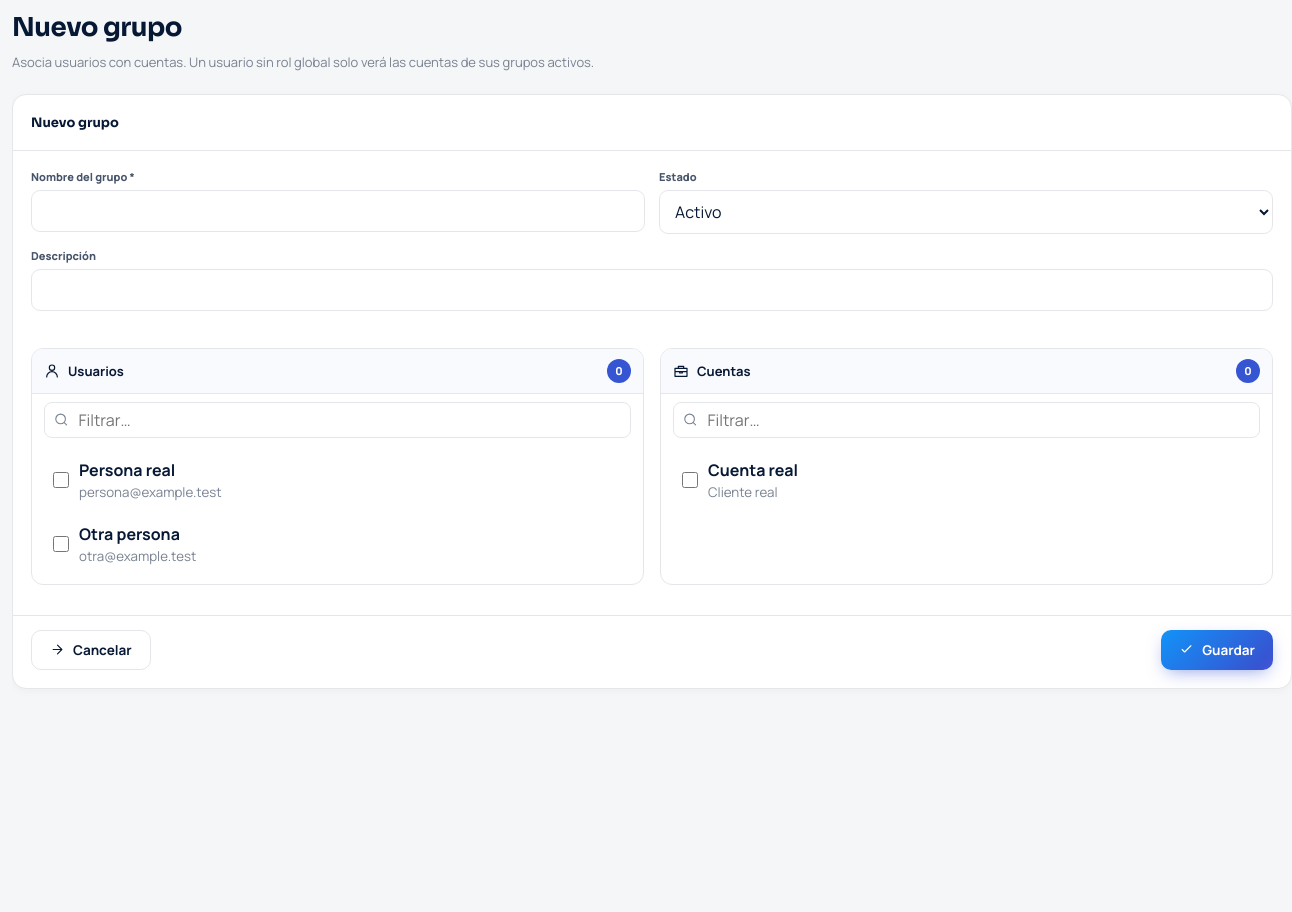
Test: Grupos según patrón de Clientes › el formulario muestra opciones reales de usuarios y cuentas
Expected: the text "Persona real" is shown, 79,459 -> 175,481
Expected: the text "Cuenta real" is shown, 708,459 -> 798,481
Click the checkbox labelled "Persona real persona@example.test": (61, 480) 53,472 -> 69,488
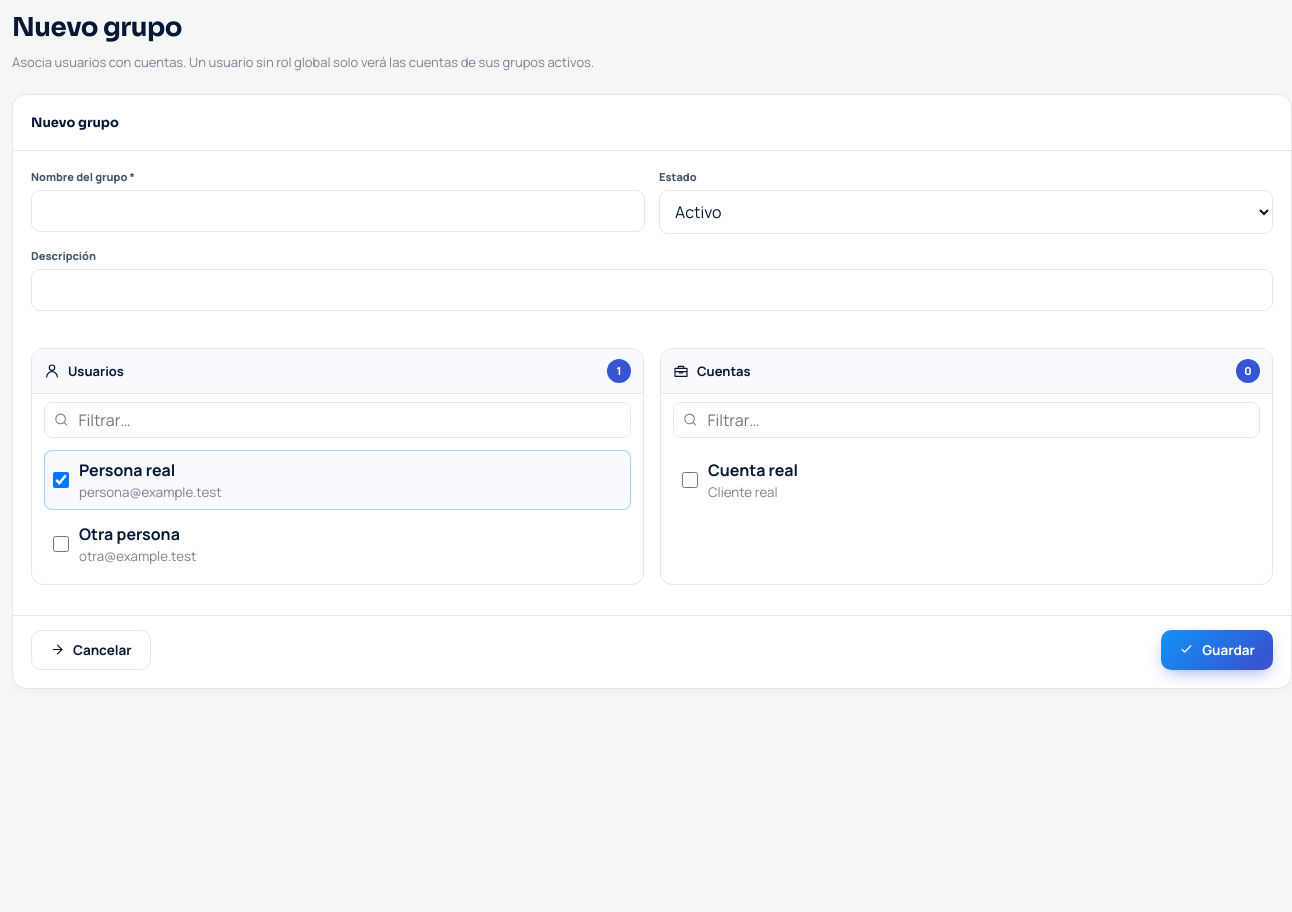
Click the checkbox labelled "Otra persona otra@example.test": (61, 544) 53,536 -> 69,552
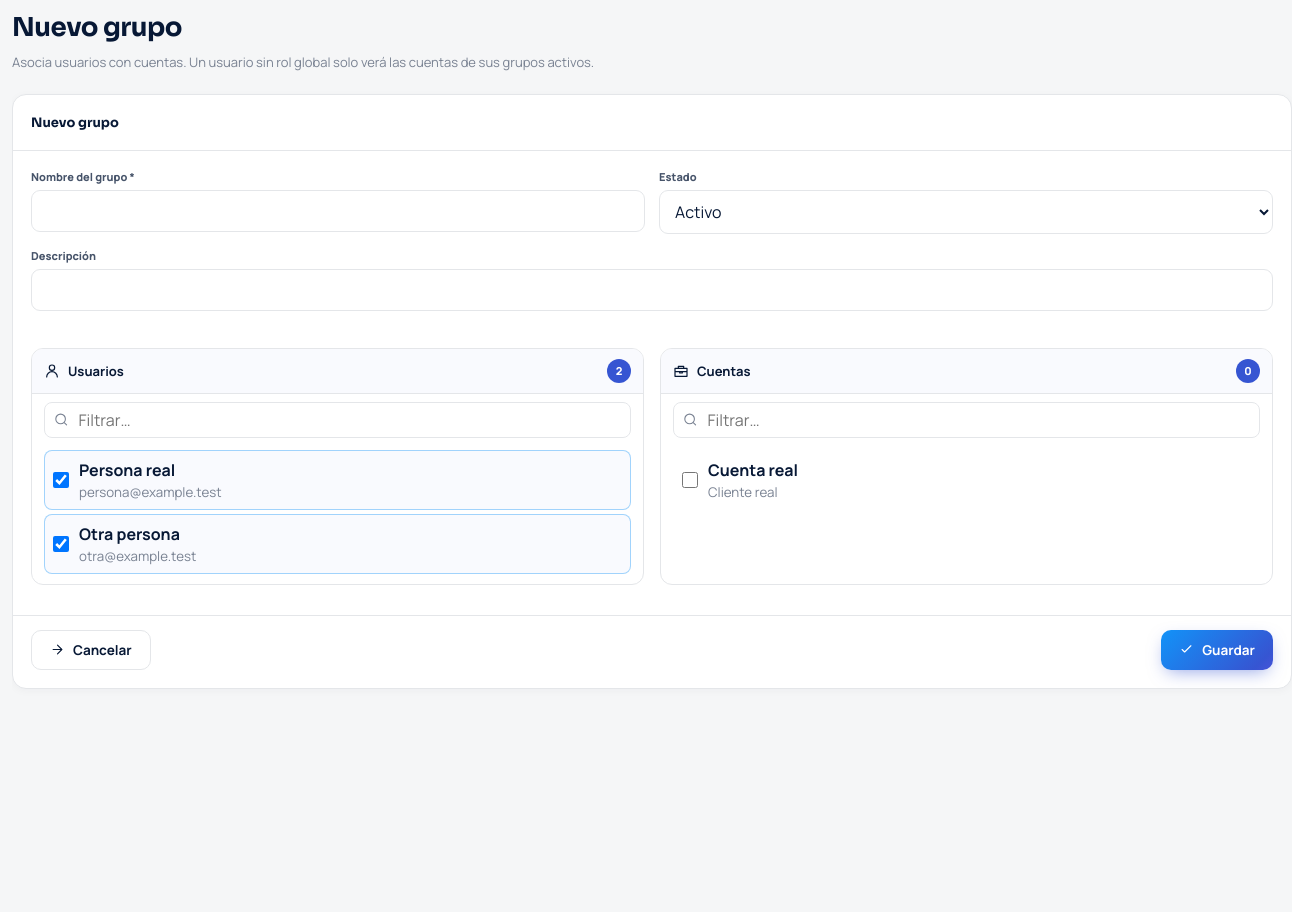
In the search field named "Filtrar usuarios": (349, 420) 76,403 -> 621,437, type "sin coincidencia"
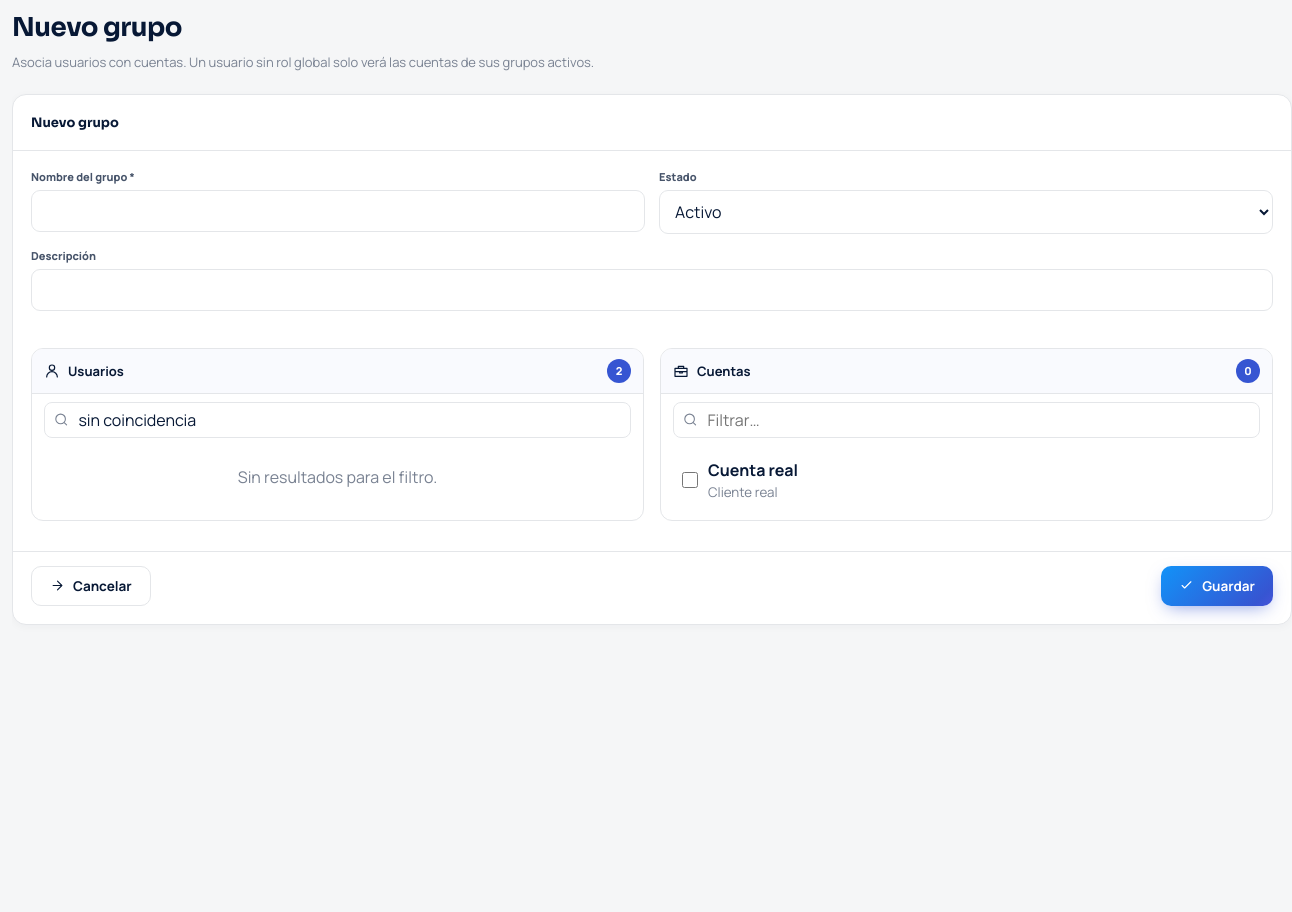
Expected: the text "Sin resultados para el filtro." is shown, 238,466 -> 437,488
Clear the search field named "Filtrar usuarios": (349, 420) 76,403 -> 621,437
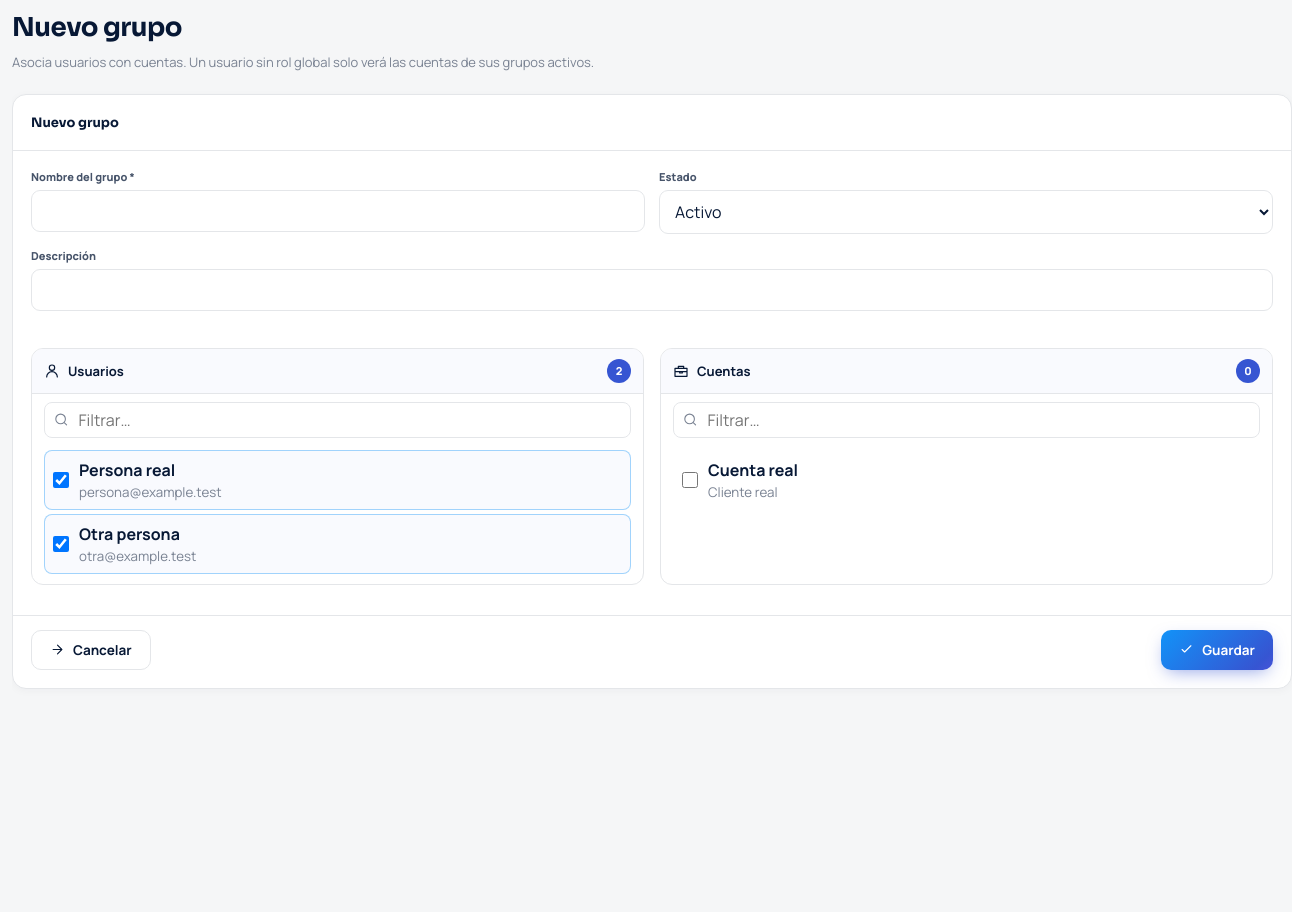
Expected: the checkbox labelled "Persona real persona@example.test" is checked, 53,472 -> 69,488
Expected: the checkbox labelled "Otra persona otra@example.test" is checked, 53,536 -> 69,552
